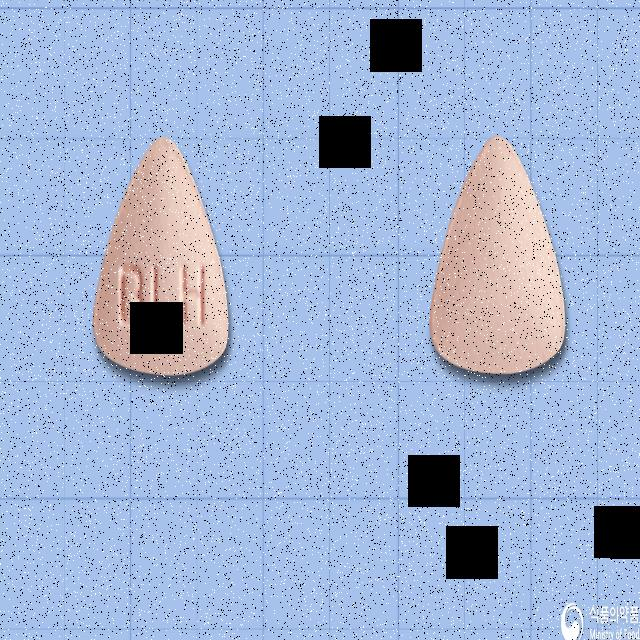Baracle: (89, 132, 236, 386)
